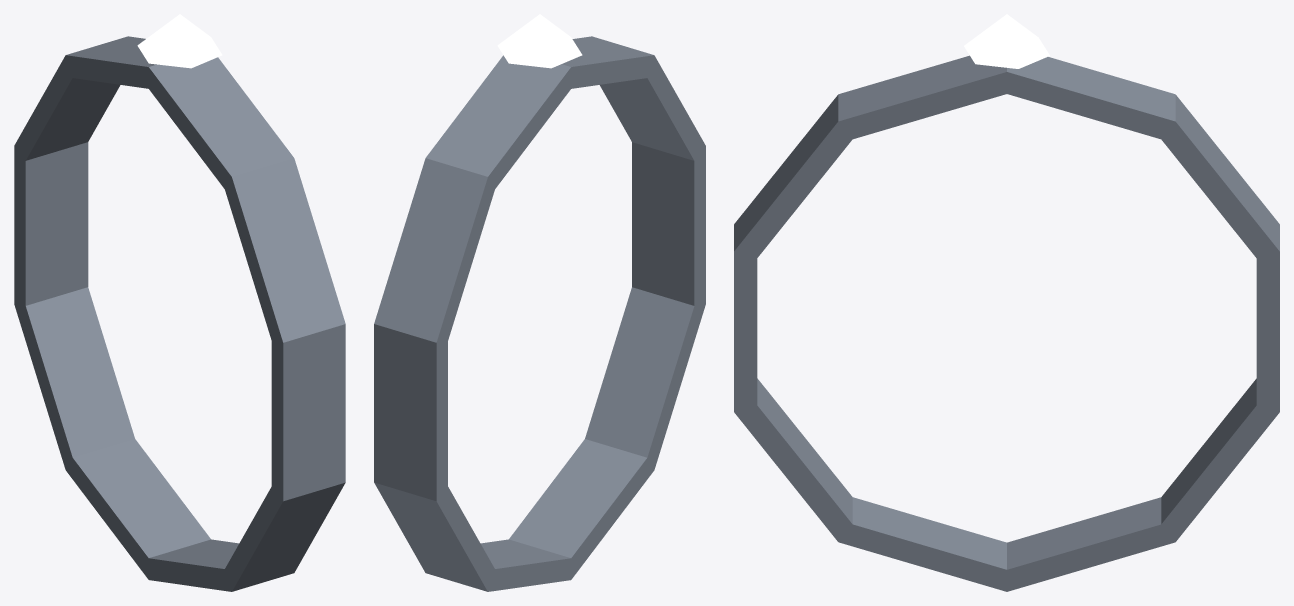
Rendered from armor_ring_uncommon_human.glb.
3 views of the same model, side by side, from view 1: azimuth 30°, elevation 25°; view 2: azimuth 150°, elevation 25°; view 3: azimuth 270°, elevation 25° (orthographic).
Visible parts, largest first — view 1: armor_ring_uncommon_human__middle_01_r; view 2: armor_ring_uncommon_human__middle_01_r; view 3: armor_ring_uncommon_human__middle_01_r.
Part boxes in pixels (left/top/right/bottom): armor_ring_uncommon_human__middle_01_r: left=14, top=14, right=345, bottom=591; armor_ring_uncommon_human__middle_01_r: left=374, top=14, right=705, bottom=591; armor_ring_uncommon_human__middle_01_r: left=734, top=14, right=1279, bottom=591.
Size of the model in its own units: 2.13 by 15.35 by 13.41.
